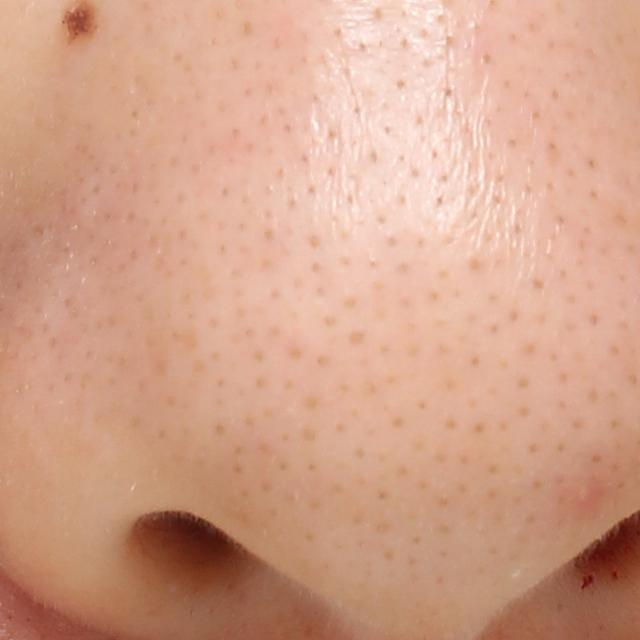papule: (576, 479, 604, 512)
